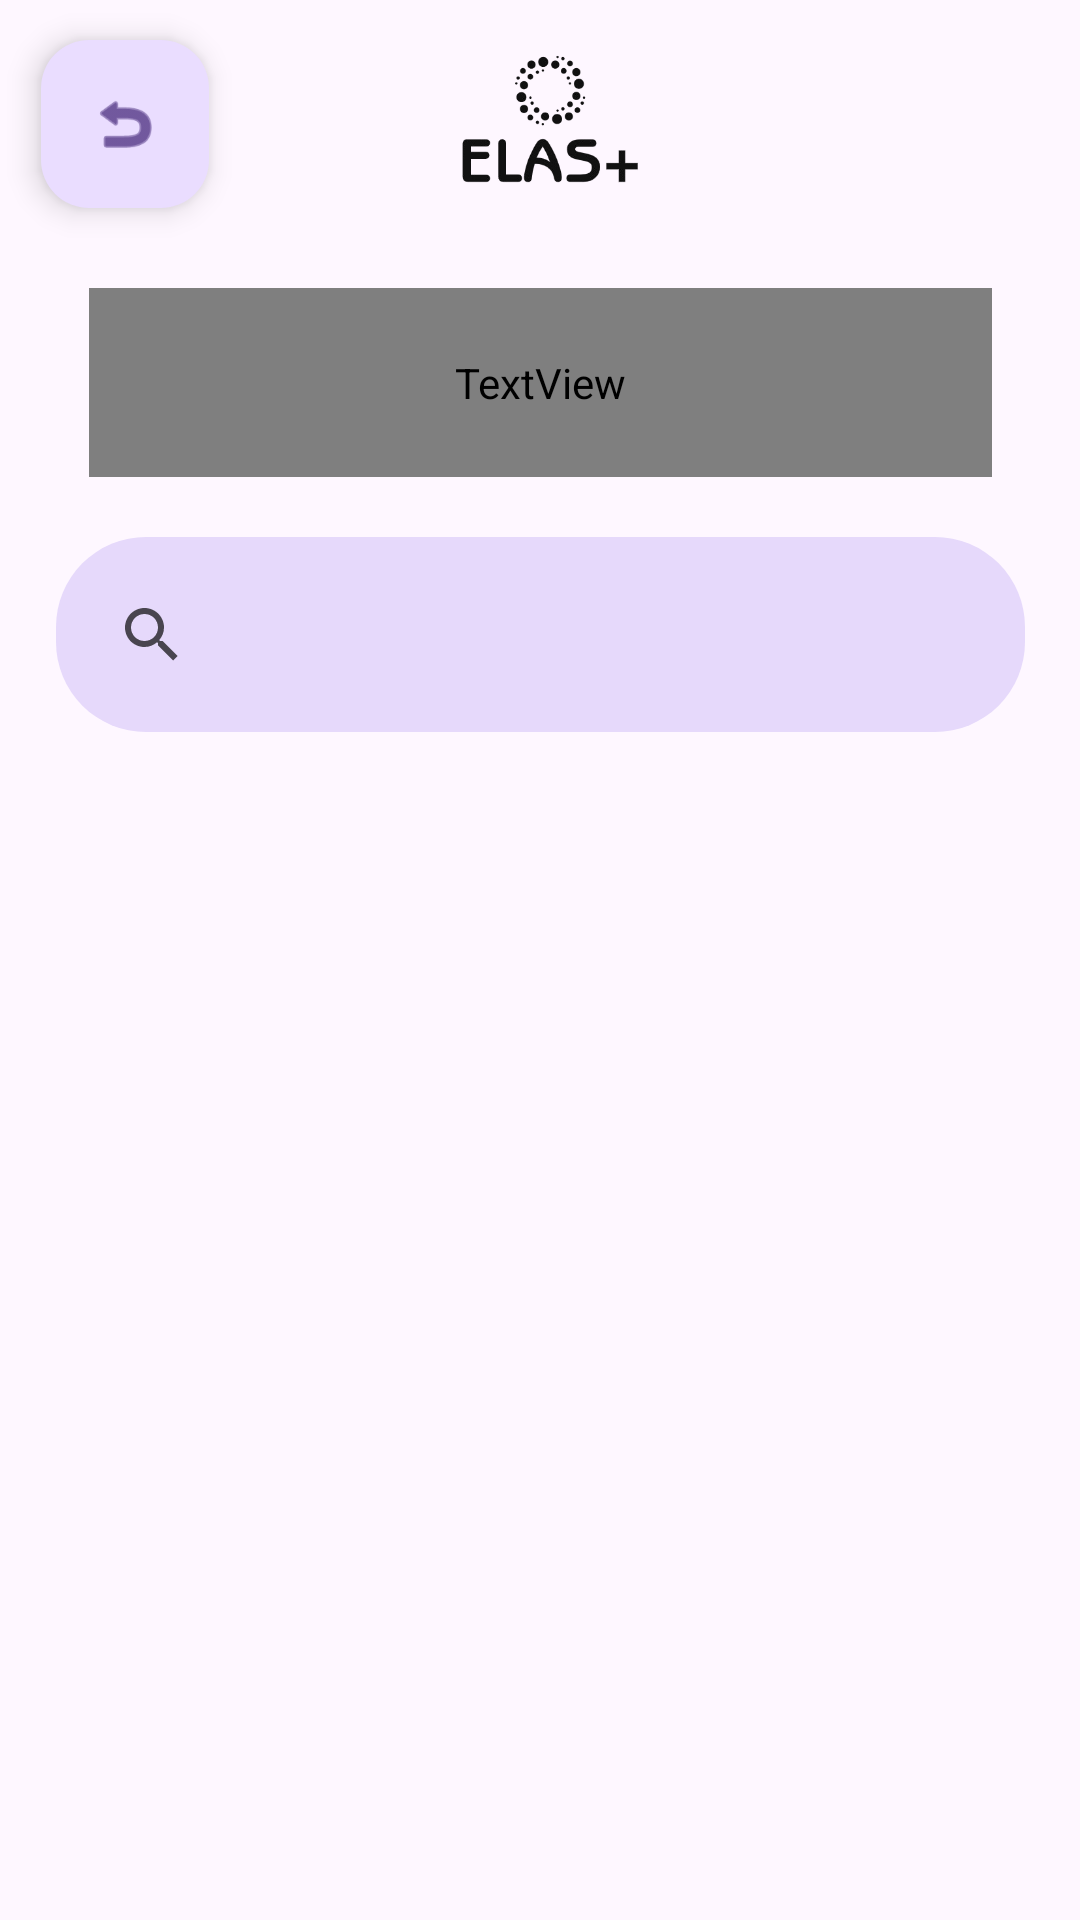

Locate icon controls on the screen. Image size 1080px x 1920px, boxes as [x1, y1, x2, y2].
revert: [100, 101, 152, 148]
